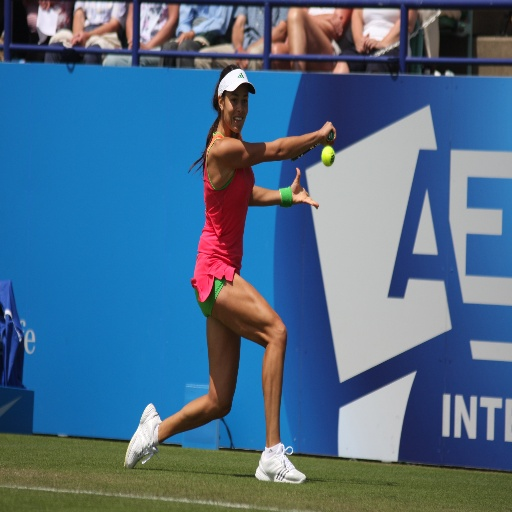hand: (290, 168, 320, 209), (322, 10, 345, 37), (353, 30, 372, 52), (321, 118, 336, 145), (362, 38, 384, 55), (234, 51, 250, 65), (177, 32, 194, 45), (69, 32, 89, 43), (128, 40, 149, 50), (72, 34, 86, 46)
